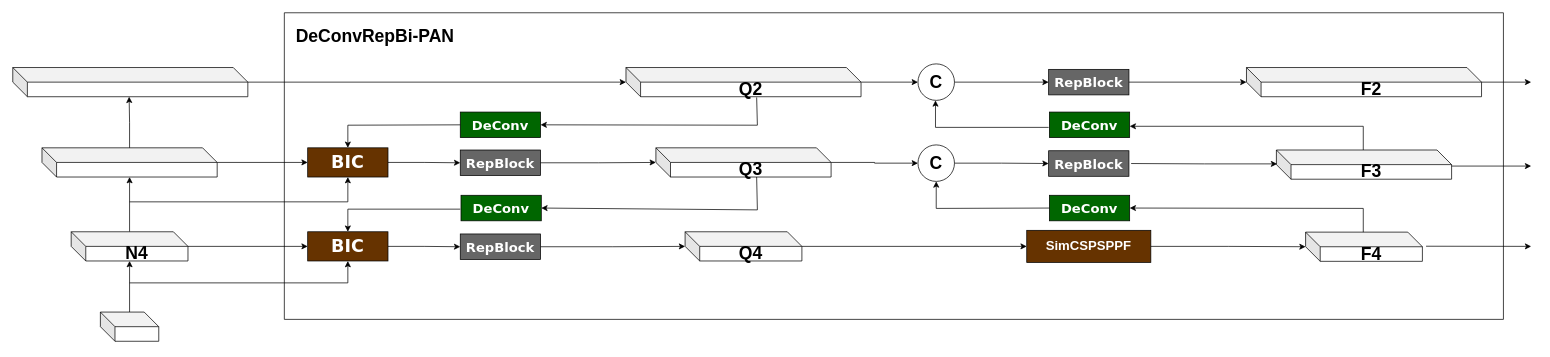
The diagram is 1550 pixels wide and 357 high, and some of its shapes have lost their labels. Each missing label, with the box of its shape:
C2: (12, 67, 248, 97)
N3: (41, 147, 217, 177)
N5: (100, 311, 159, 341)
